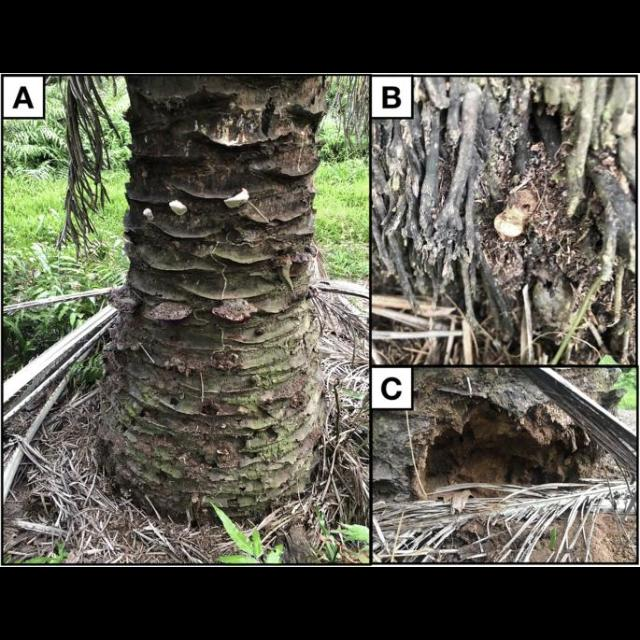primordium: (496, 190, 543, 240), (224, 188, 254, 213), (168, 198, 192, 219), (143, 207, 157, 225)
